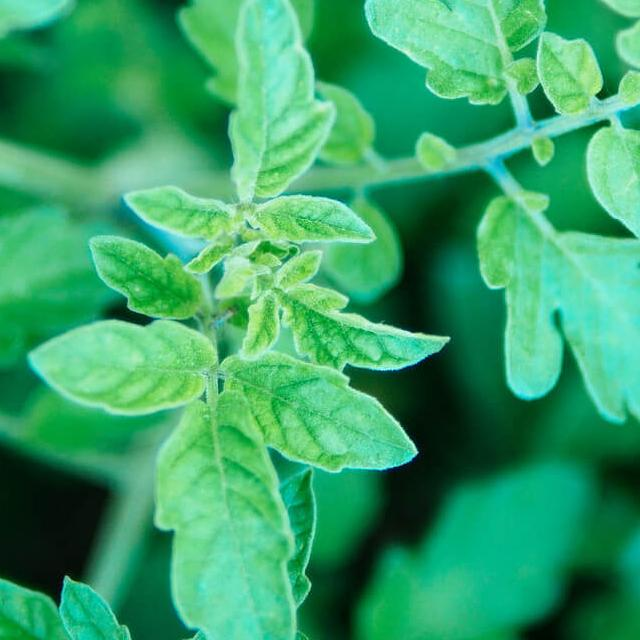Tomato leaf: (471, 167, 640, 457), (156, 376, 286, 640), (207, 351, 437, 485), (352, 0, 558, 125), (220, 0, 332, 216), (26, 314, 215, 414), (575, 0, 640, 95)
